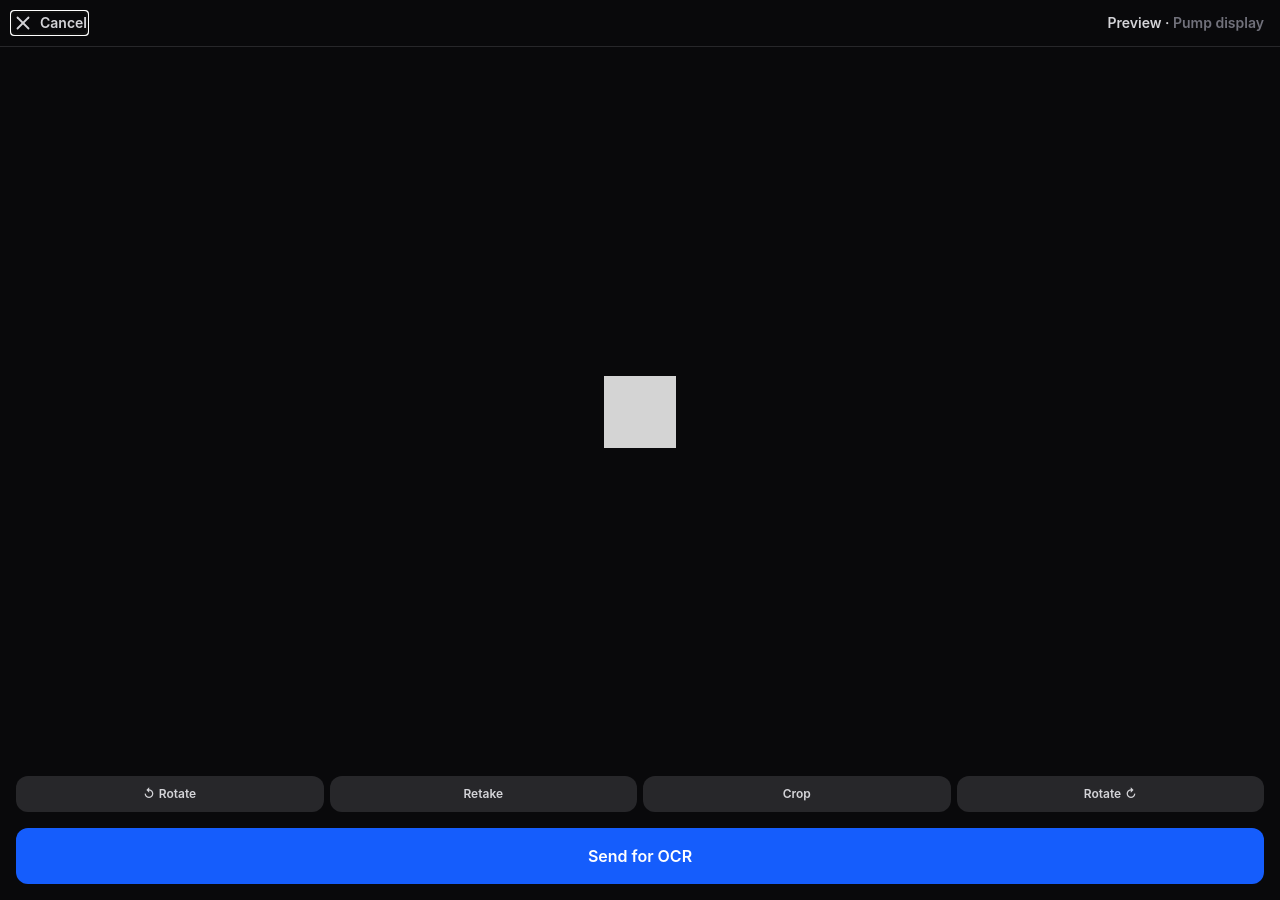
Test: OcrPreview — crop mode › crop toolbar renders a zoom slider (not Zoom in/out buttons), and it drives the zoom
Click the button with aria-label "Crop image" at (797, 794), box [643, 776, 950, 812]
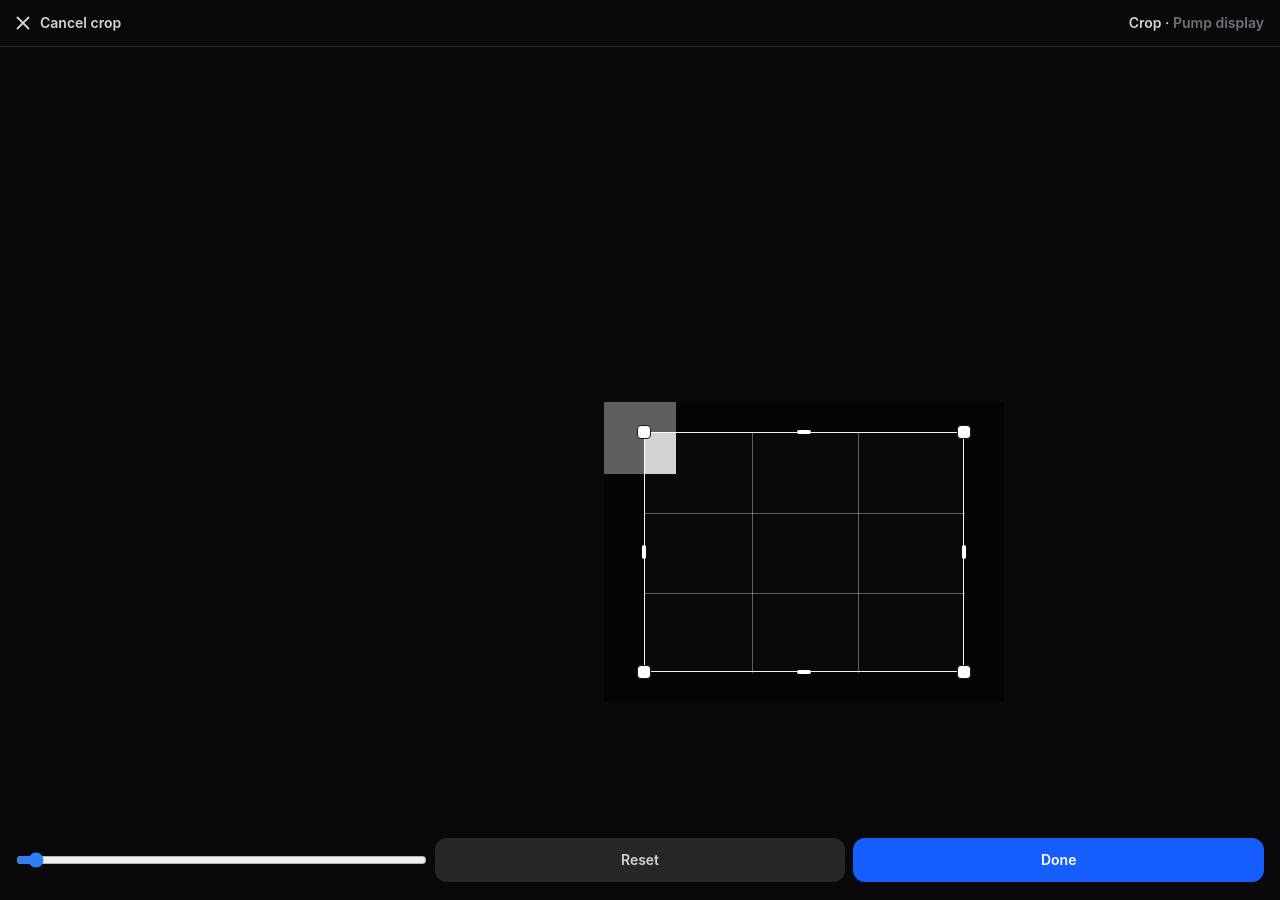
Result: the slider named "Zoom" is shown
Result: the slider named "Zoom" holds "1"
Set the slider named "Zoom" to "3" at (221, 860), box [16, 836, 427, 884]
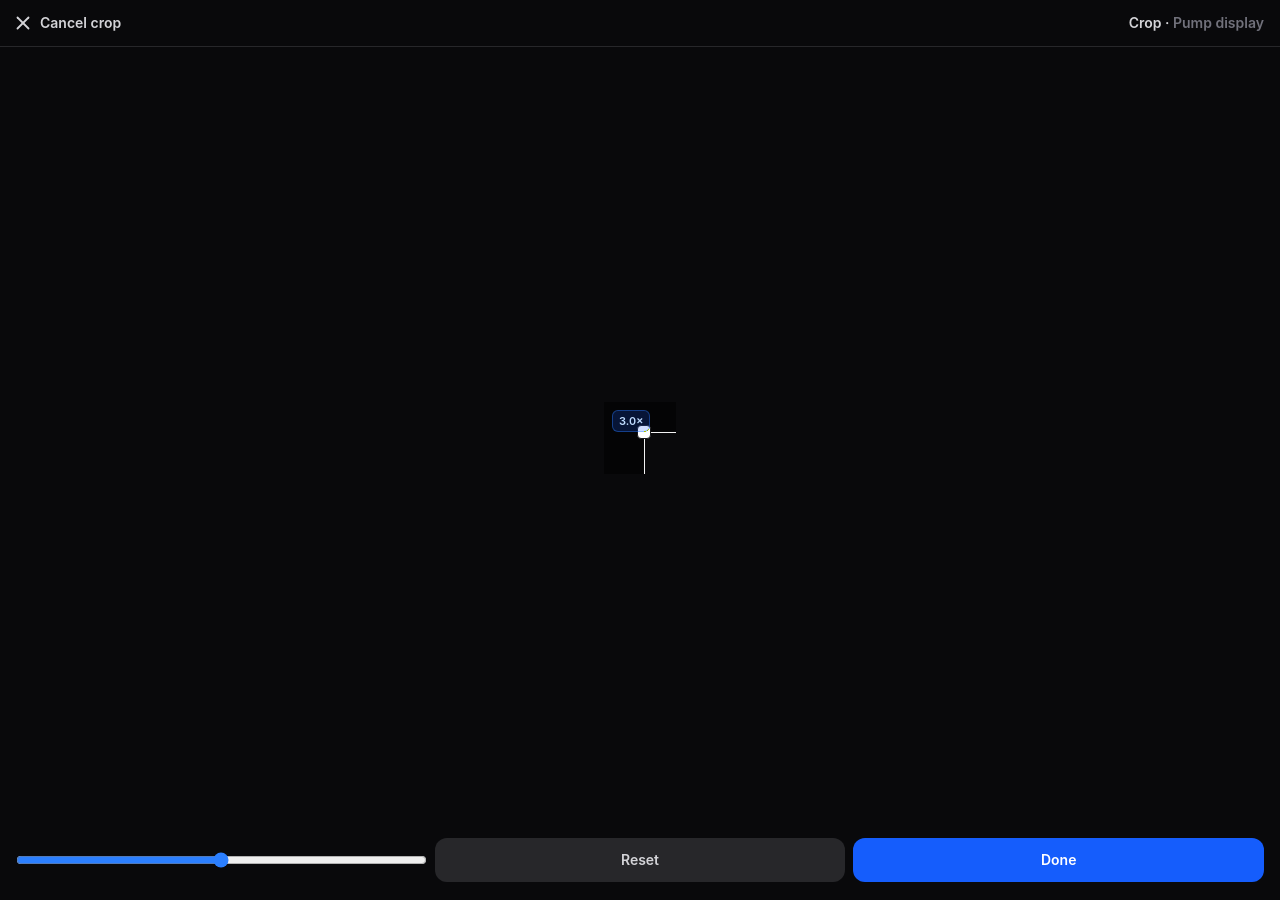
Result: the text "3.0×" is shown at [612, 410, 650, 432]
